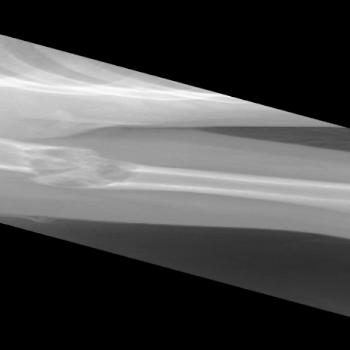Fracture: (15, 147, 147, 198)
